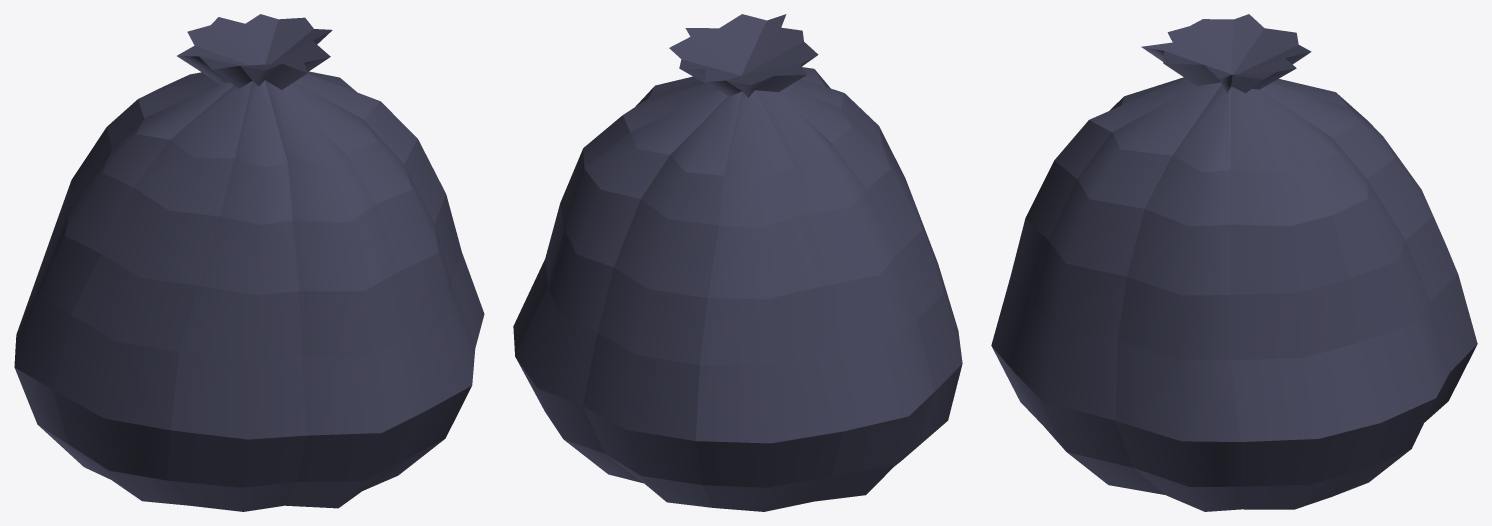
The model's file is Trashbag1.fbx.
3 views of the same model, side by side, from view 1: azimuth 30°, elevation 25°; view 2: azimuth 150°, elevation 25°; view 3: azimuth 270°, elevation 25° (orthographic). The views are drawn at different scales.
Visible parts, largest first — view 1: Trashbag; view 2: Trashbag; view 3: Trashbag.
Part boxes in pixels (x1=…): Trashbag: x1=14, y1=14, x2=484, y2=511; Trashbag: x1=513, y1=14, x2=962, y2=511; Trashbag: x1=991, y1=14, x2=1477, y2=511.
Bounding box in the file's own units: 2.52 × 2.49 × 2.63.
